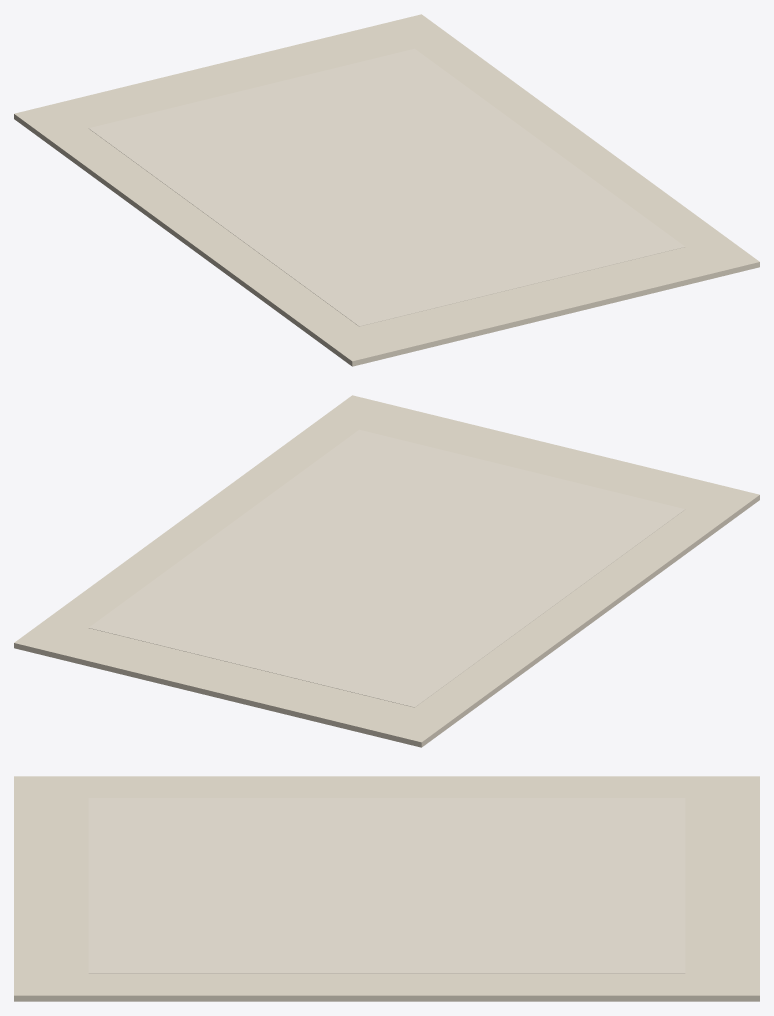
File: tapis-ary.glb
3 views of the same model, one above another, from view 1: azimuth 30°, elevation 25°; view 2: azimuth 150°, elevation 25°; view 3: azimuth 270°, elevation 25° (orthographic). The views are drawn at different scales.
Visible parts, largest first — view 1: produit; view 2: produit; view 3: produit.
Boxes of the visible parts, x1,y1,x2,y2 form: produit: (14,14,759,366); produit: (14,395,759,747); produit: (14,776,759,1001).
Bounding box in the file's own units: 1.6 × 0.021 × 2.3.
